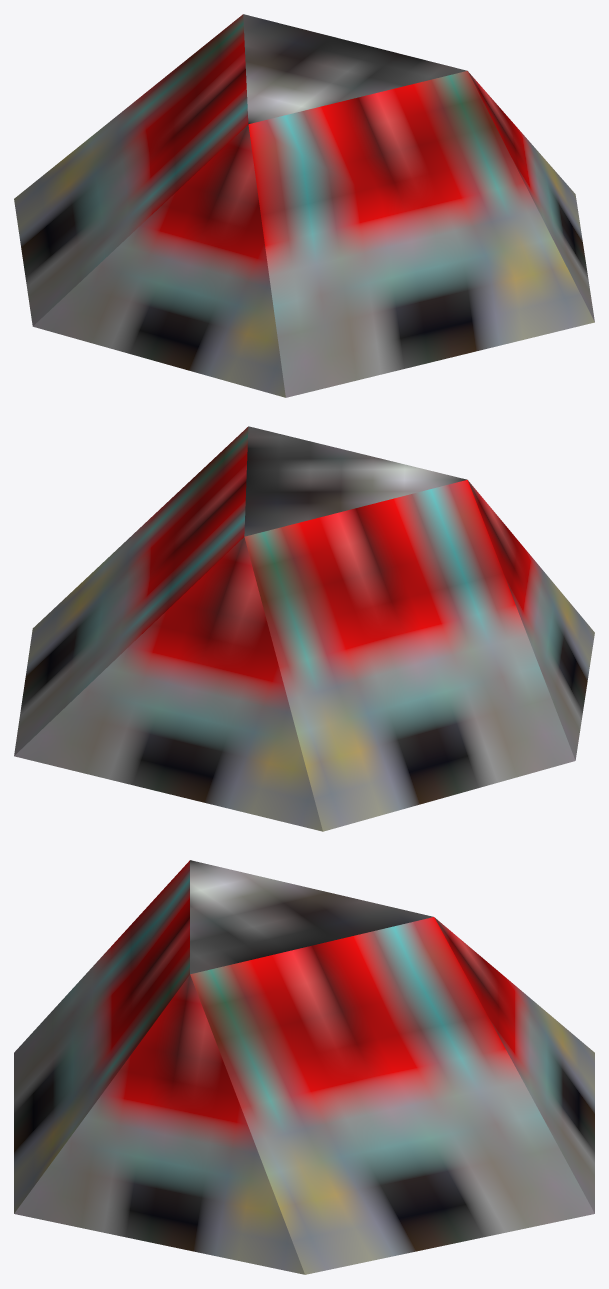
3 views of the same model, one above another, from view 1: azimuth 30°, elevation 25°; view 2: azimuth 150°, elevation 25°; view 3: azimuth 270°, elevation 25° (orthographic). The views are drawn at different scales.
Visible parts, largest first — view 1: root; view 2: root; view 3: root.
Part boxes in pixels (x1=…): root: x1=14, y1=14, x2=594, y2=397; root: x1=14, y1=426, x2=594, y2=831; root: x1=14, y1=860, x2=594, y2=1274.
Size of the model in its own units: 0.9434 by 0.3359 by 0.8184.
1 material, 1 textured.
